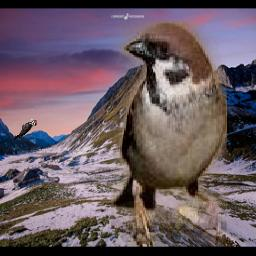Sparrow: (111, 21, 227, 247)
Woodpecker: (13, 118, 38, 141)
